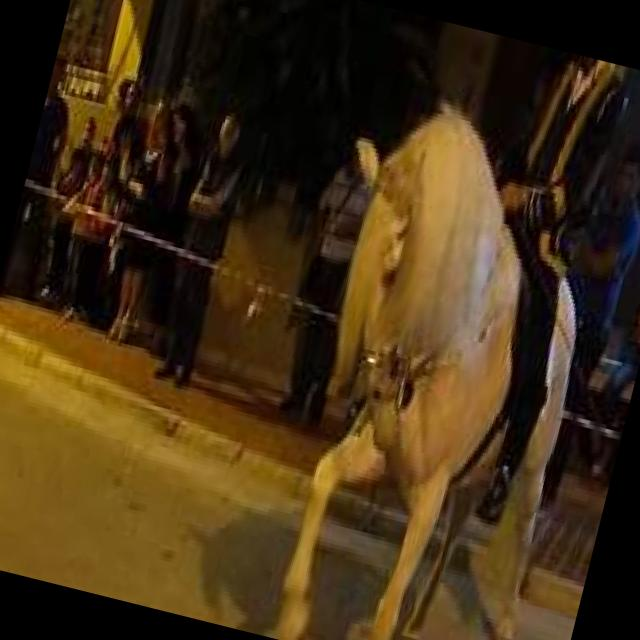animal: (255, 82, 636, 640)
